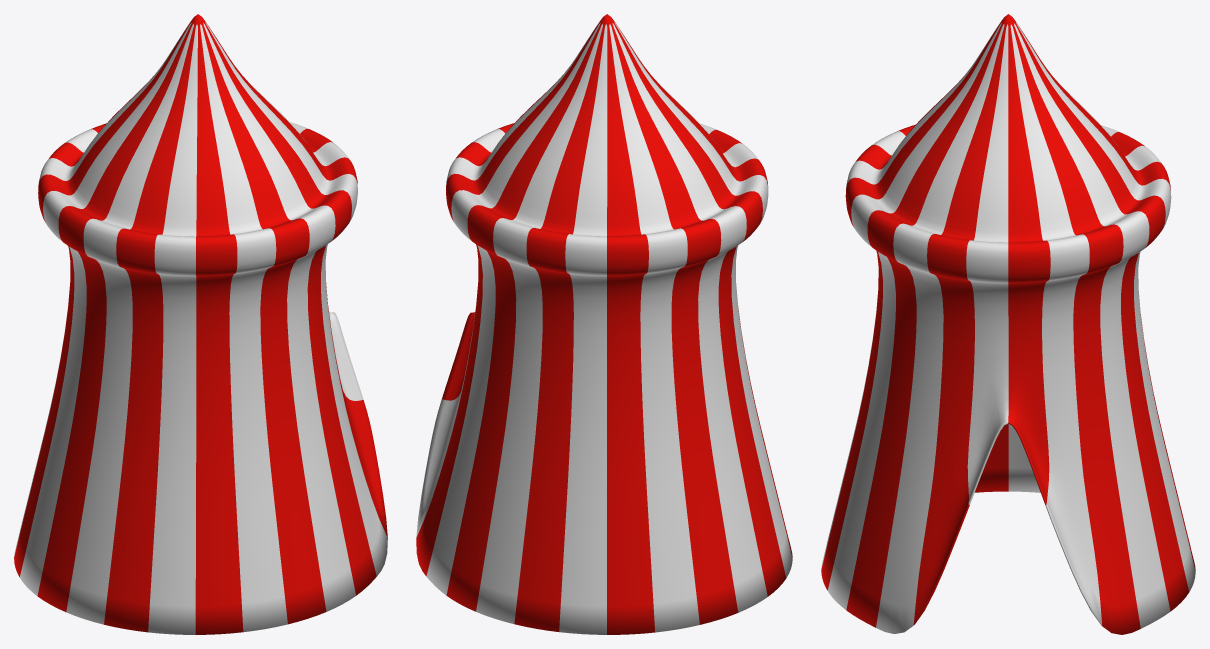
Rendered from CircusTent.fbx.
3 renders of one model, left to right at view 1: azimuth 30°, elevation 25°; view 2: azimuth 150°, elevation 25°; view 3: azimuth 270°, elevation 25°, orthographic. The views are drawn at different scales.
Parts seen in each view (by area): view 1: Circle; view 2: Circle; view 3: Circle.
Boxes of the visible parts, left/top/right/bottom form: Circle: left=14, top=14, right=387, bottom=634; Circle: left=416, top=14, right=792, bottom=634; Circle: left=821, top=14, right=1195, bottom=634.
Size of the model in its own units: 230 by 384 by 234.
